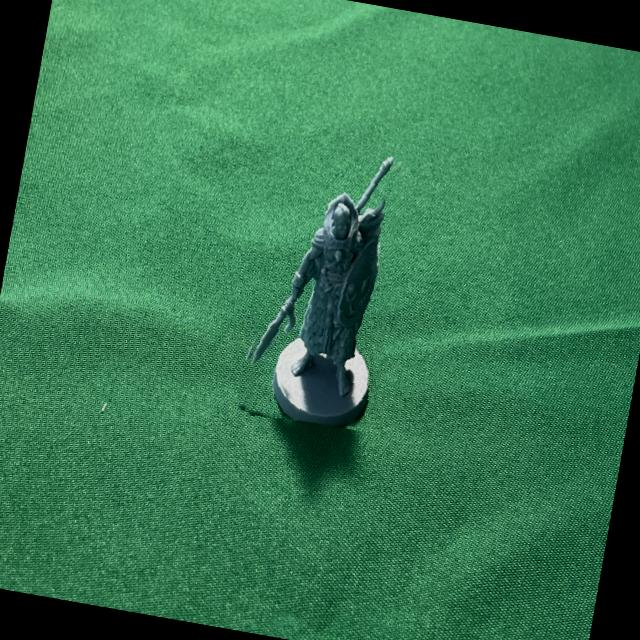isis_follower: (231, 134, 416, 434)
